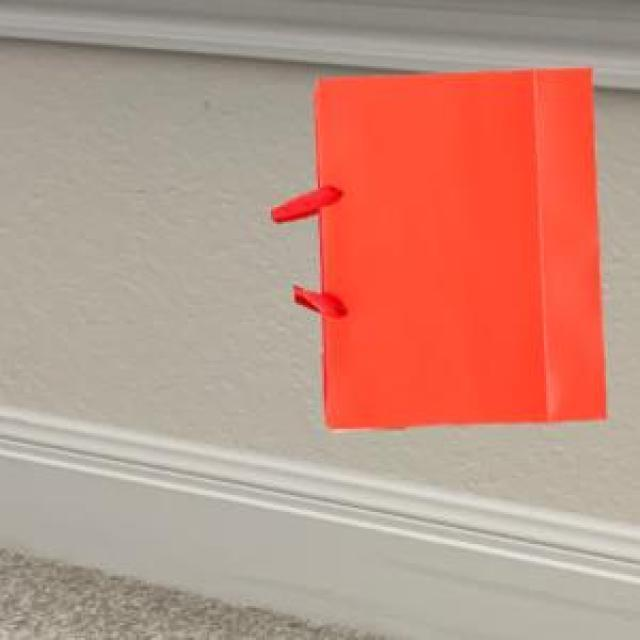paper: (267, 64, 602, 429)
